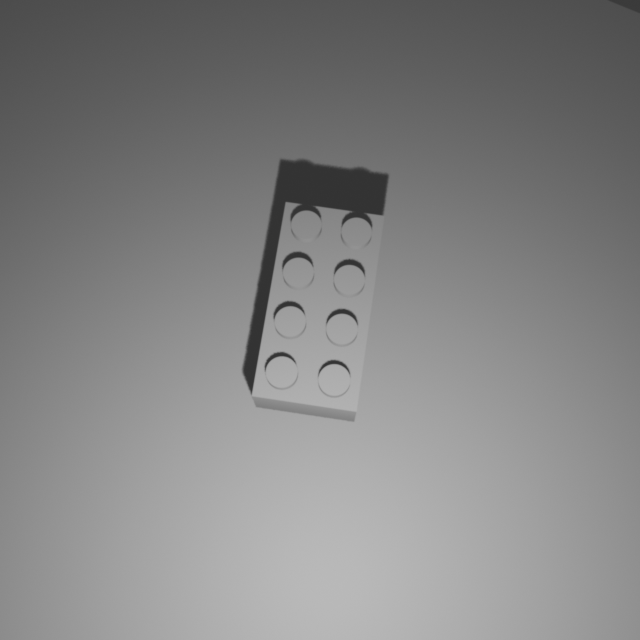lego_2x4: (251, 198, 385, 422)
